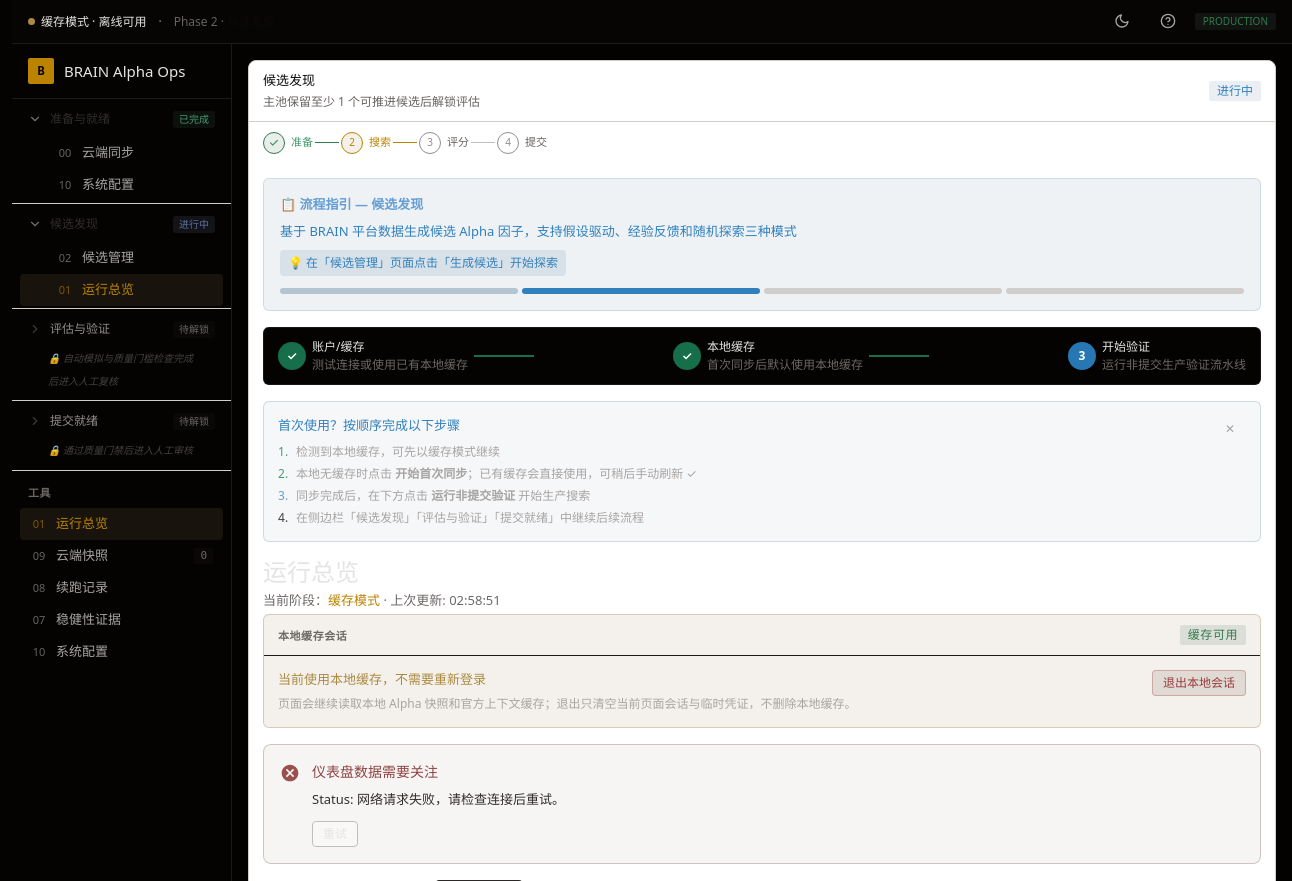
Scenario: App credential quick start › shows logout controls instead of credential login when local cache is already available
Expected: the text "本地缓存会话" is shown, 278,628 -> 347,643
Click the button "退出本地会话". click: (1199, 683)
box: 1152,670 -> 1246,696
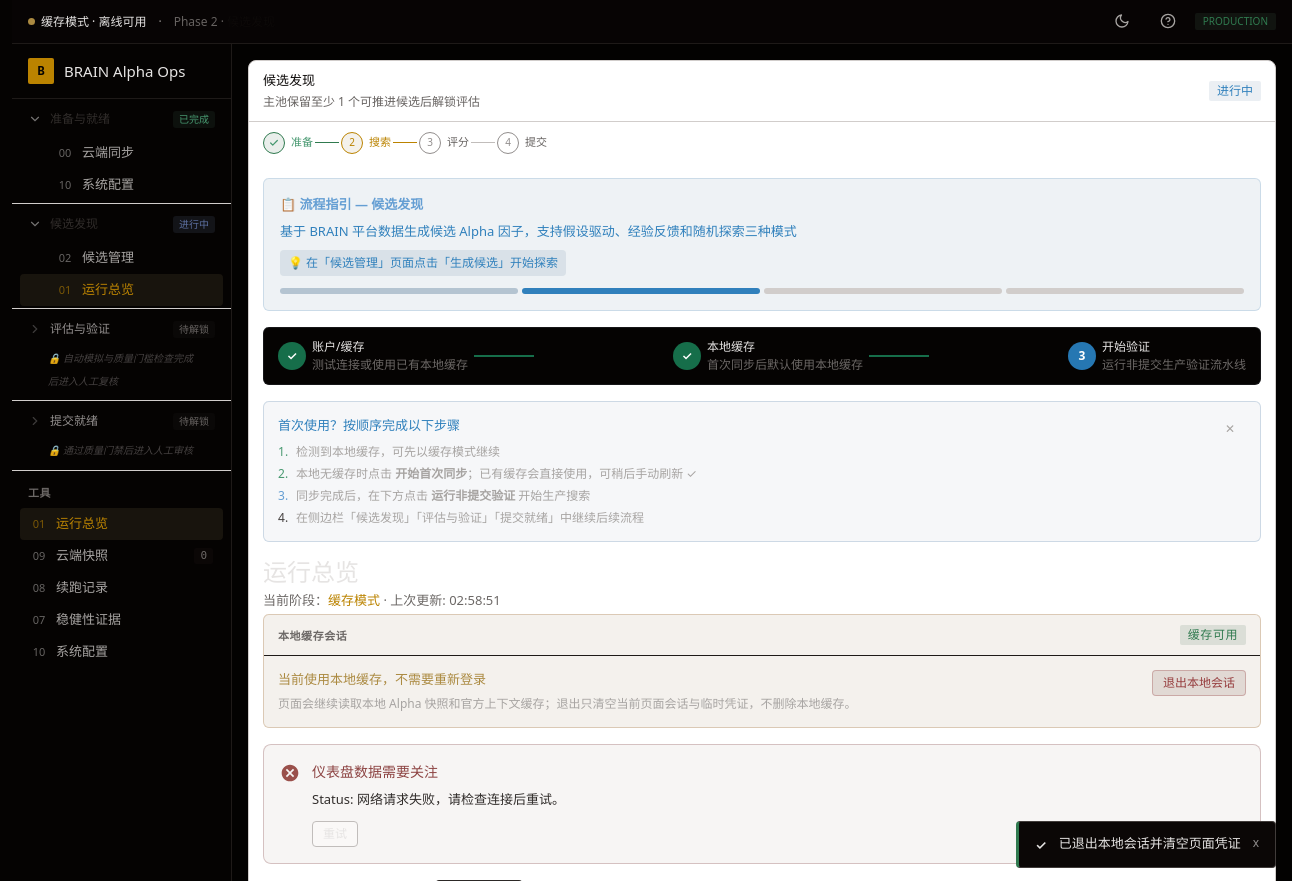
Expected: the text "已退出本地会话并清空页面凭证" is shown, 1059,834 -> 1241,853
